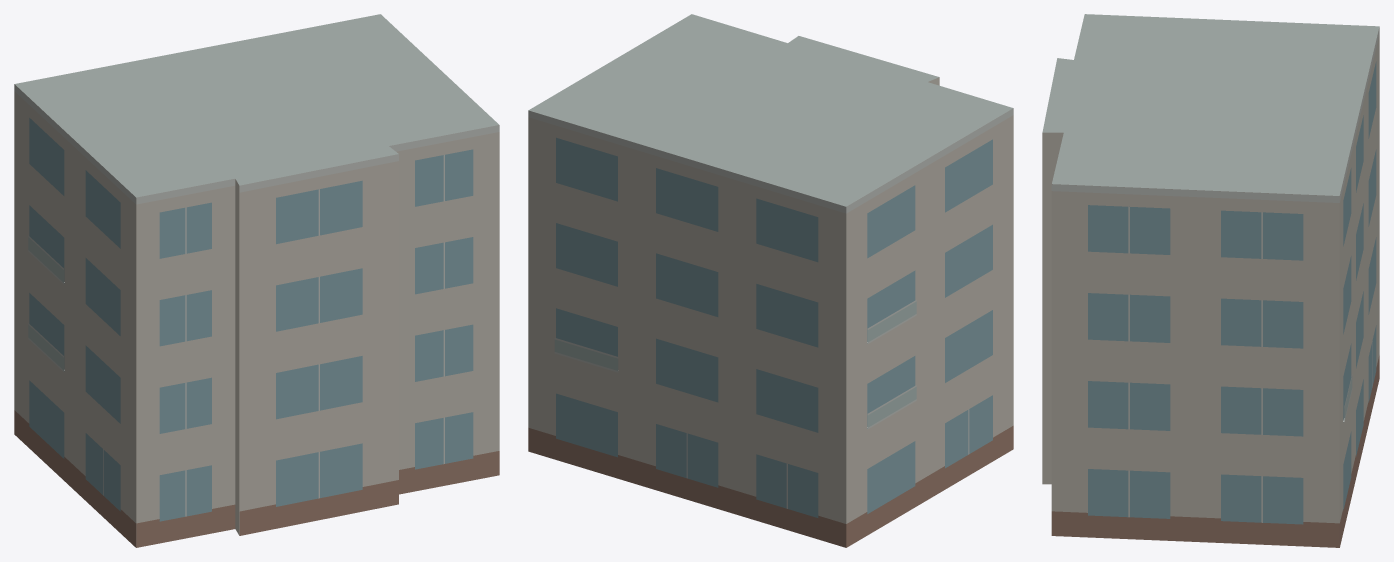
Rendered from survey-upis-32806181.glb.
3 views of the same model, side by side, from view 1: azimuth 30°, elevation 25°; view 2: azimuth 150°, elevation 25°; view 3: azimuth 270°, elevation 25° (orthographic). The views are drawn at different scales.
Visible parts, largest first — view 1: survey-upis-32806181.tmp; view 2: survey-upis-32806181.tmp; view 3: survey-upis-32806181.tmp.
Boxes of the visible parts, x1,y1,x2,y2 form: survey-upis-32806181.tmp: [14, 14, 499, 547]; survey-upis-32806181.tmp: [528, 14, 1013, 547]; survey-upis-32806181.tmp: [1042, 14, 1379, 547].
Bounding box in the file's own units: 13.55 × 12.2 × 10.61.
